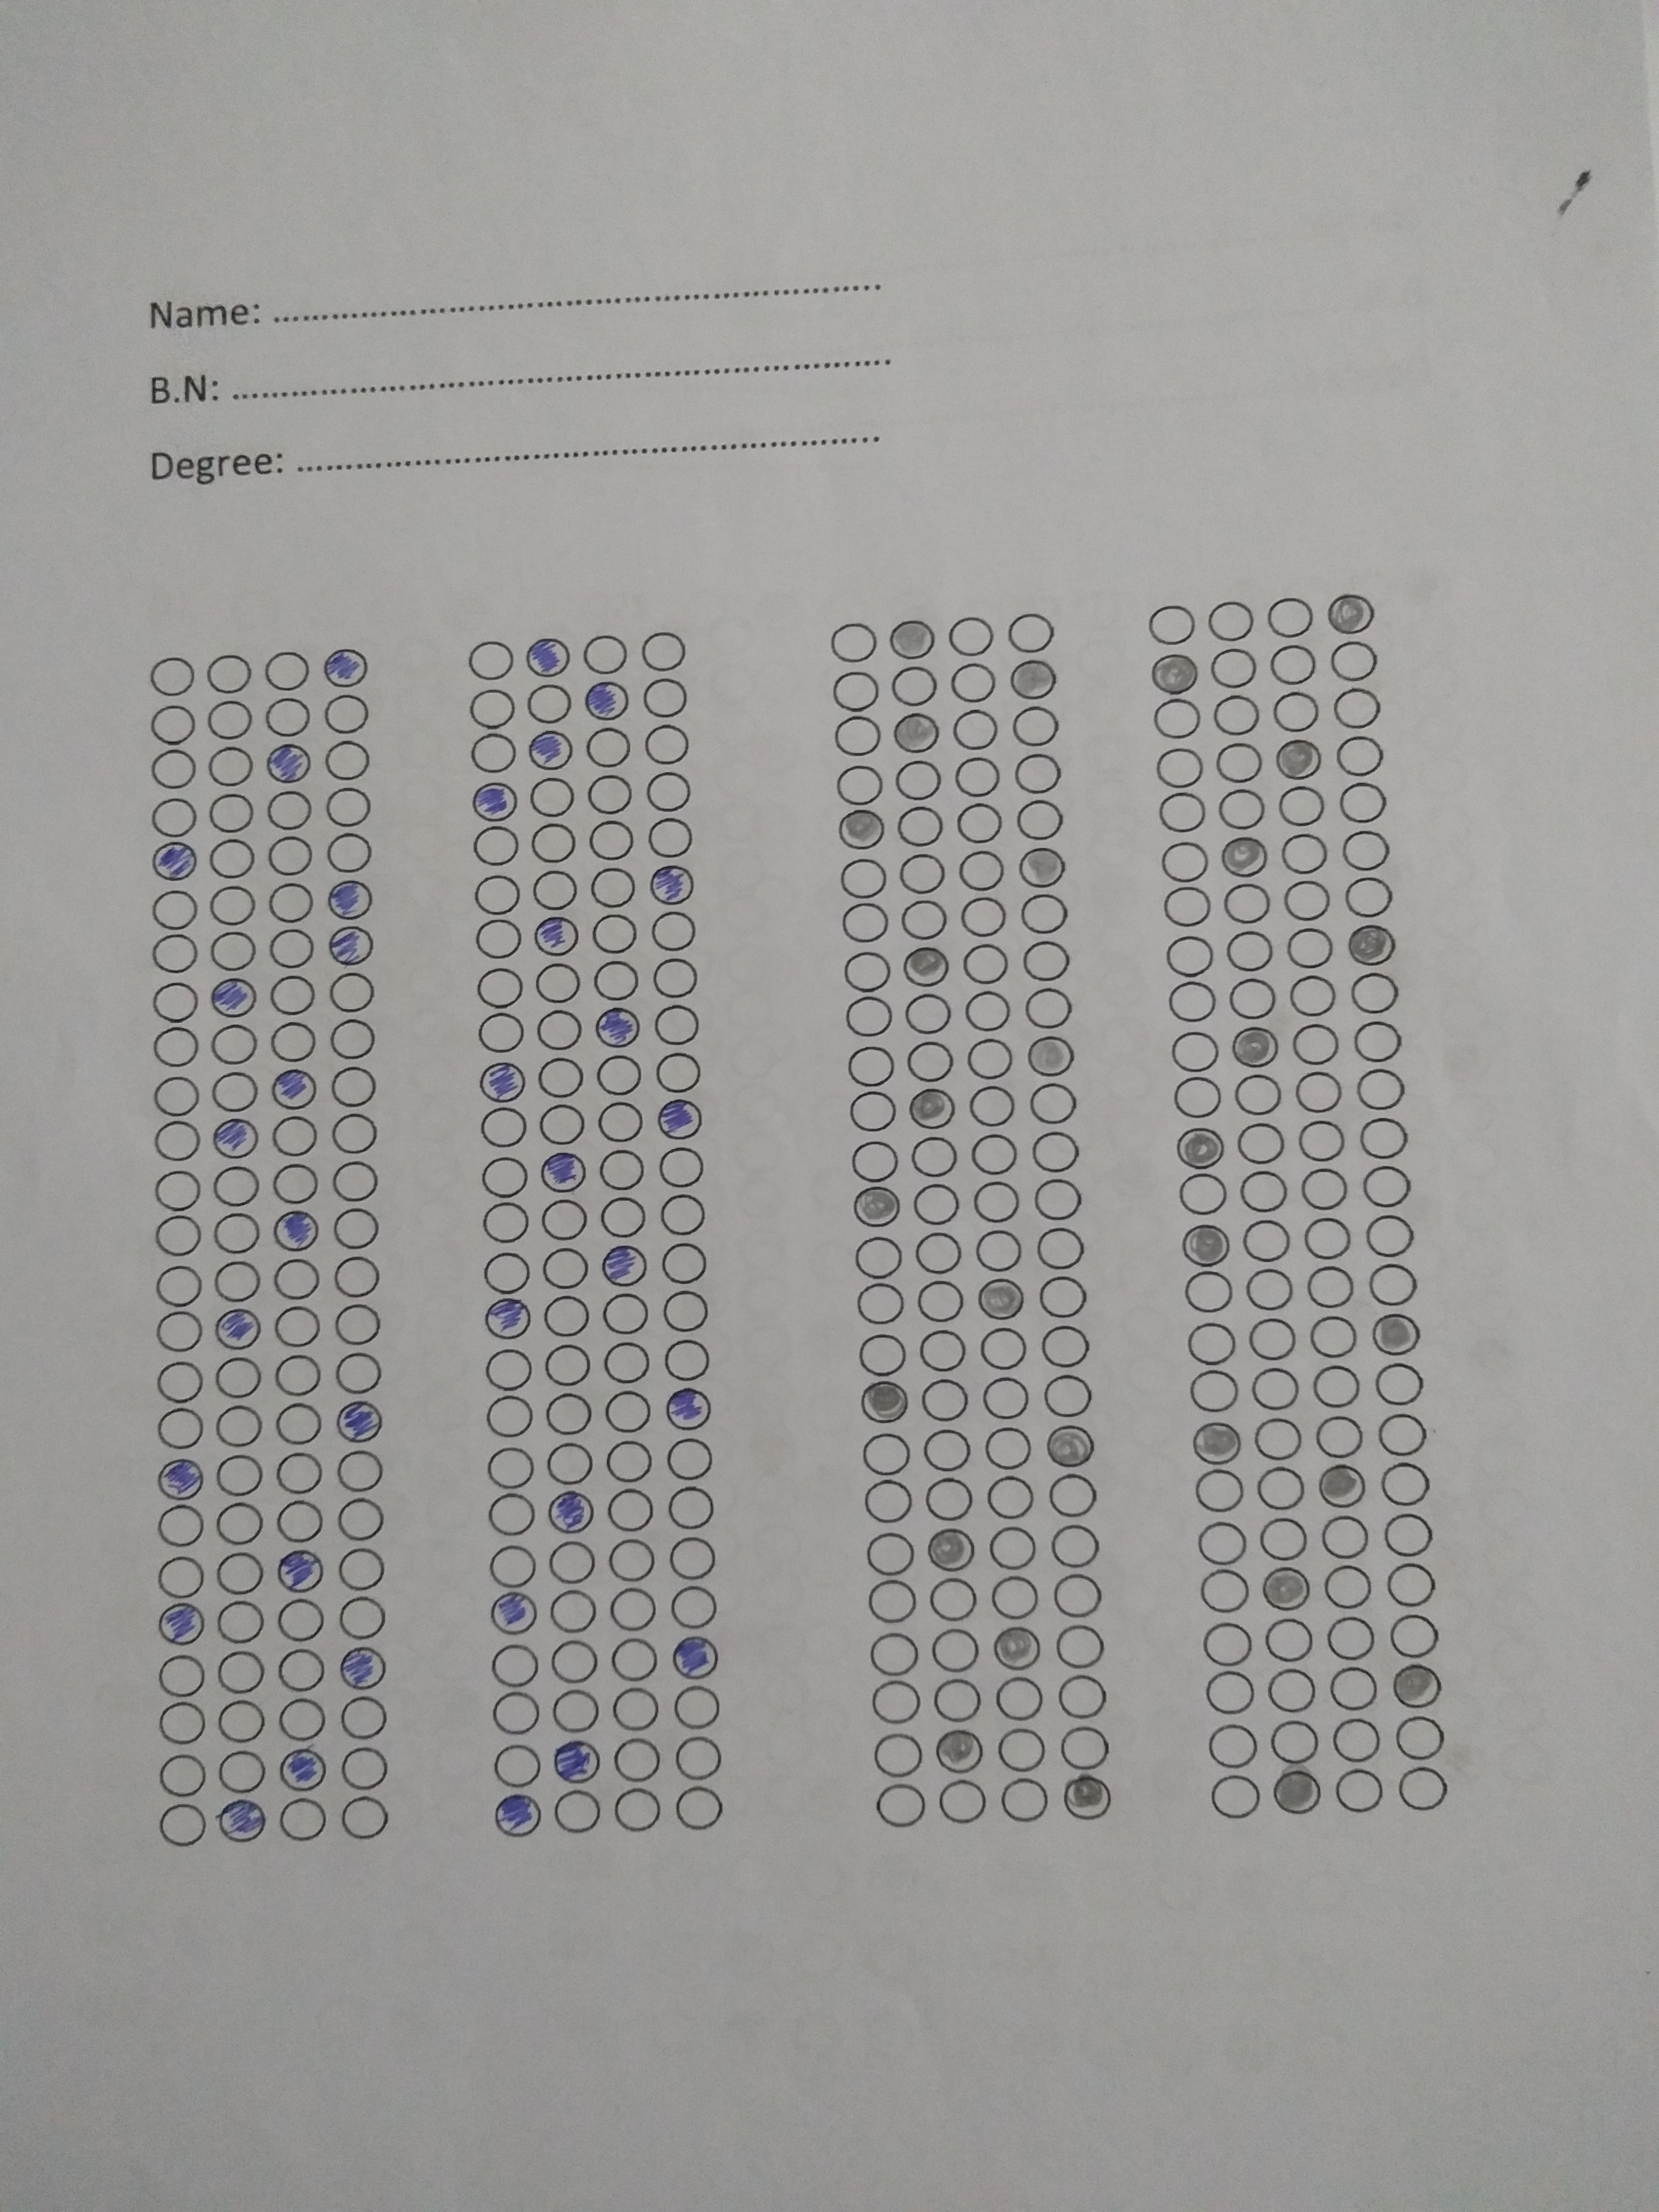not-c: (1333, 1768, 1389, 1815), (146, 657, 197, 698), (150, 890, 200, 932), (322, 831, 373, 873), (206, 838, 256, 880), (324, 787, 375, 829), (319, 691, 369, 733), (211, 1165, 261, 1207), (152, 1169, 202, 1211), (326, 1019, 376, 1061), (267, 1021, 317, 1062), (152, 1028, 202, 1069), (265, 974, 315, 1015), (150, 934, 200, 975), (265, 881, 315, 923), (272, 1402, 322, 1444), (155, 1407, 206, 1449), (211, 1357, 261, 1399), (272, 1305, 322, 1346), (329, 1256, 380, 1298), (155, 1264, 206, 1306), (211, 1212, 261, 1254), (152, 1216, 202, 1258), (328, 1160, 378, 1202), (484, 1446, 535, 1487), (544, 1345, 594, 1386), (486, 1395, 537, 1437), (664, 1486, 714, 1527), (545, 1590, 596, 1632), (674, 1737, 725, 1778), (552, 1791, 603, 1832), (610, 1738, 660, 1780), (551, 1689, 601, 1731), (544, 1442, 594, 1484), (544, 1294, 594, 1336), (491, 1691, 542, 1733), (493, 1745, 544, 1787), (157, 1803, 207, 1844), (338, 1747, 389, 1789), (216, 1749, 267, 1791), (277, 1700, 328, 1742), (216, 1700, 267, 1742), (336, 1696, 387, 1738), (338, 1595, 389, 1637), (213, 1601, 263, 1642), (333, 1547, 383, 1588), (584, 819, 634, 860), (528, 869, 579, 911), (657, 1291, 708, 1332), (599, 1292, 650, 1334), (474, 1010, 525, 1052), (535, 1055, 586, 1097), (596, 1148, 647, 1190), (655, 1150, 706, 1191), (659, 1242, 709, 1284), (1002, 613, 1053, 655), (826, 622, 877, 664), (526, 775, 577, 817), (584, 725, 634, 766), (469, 688, 519, 730), (525, 685, 575, 726), (638, 631, 688, 672), (580, 634, 631, 676), (974, 1230, 1025, 1271), (1033, 1228, 1084, 1270), (908, 1136, 958, 1177), (845, 1092, 896, 1134), (967, 1085, 1018, 1127), (904, 1042, 955, 1083), (901, 993, 951, 1035), (962, 991, 1012, 1033), (1021, 988, 1072, 1029), (958, 895, 1009, 937), (838, 902, 889, 944), (955, 850, 1006, 892), (838, 857, 889, 899), (896, 805, 946, 846), (894, 758, 945, 799), (1009, 705, 1060, 747), (950, 662, 1000, 704), (852, 1237, 903, 1278), (941, 1780, 992, 1822), (871, 1681, 922, 1723), (992, 1677, 1042, 1719), (1058, 1625, 1108, 1667), (927, 1578, 978, 1620), (990, 1576, 1040, 1618), (1051, 1575, 1101, 1616), (861, 1479, 911, 1521), (922, 1479, 972, 1521), (983, 1475, 1033, 1517), (983, 1428, 1033, 1470), (861, 1433, 911, 1475), (979, 1378, 1030, 1420), (854, 1334, 904, 1376), (852, 1282, 903, 1324), (1201, 1569, 1251, 1611), (1384, 1564, 1434, 1606), (1326, 1618, 1377, 1660), (1326, 1667, 1377, 1709), (1267, 1669, 1317, 1710), (1208, 1726, 1258, 1768), (1392, 1716, 1443, 1757), (1209, 1775, 1260, 1817), (1366, 1263, 1417, 1305), (1256, 1467, 1307, 1508), (1190, 1371, 1241, 1413), (1314, 1416, 1364, 1458), (1281, 881, 1331, 923), (1342, 878, 1392, 920), (1227, 930, 1277, 972), (1286, 927, 1337, 968), (1227, 977, 1277, 1019), (1288, 975, 1338, 1017), (1291, 1024, 1342, 1066), (1354, 1021, 1405, 1062), (1293, 1071, 1344, 1113), (1232, 1075, 1283, 1116), (1236, 1122, 1286, 1163), (1178, 1172, 1229, 1214), (1361, 1167, 1412, 1209), (1239, 1170, 1290, 1212), (1241, 1221, 1291, 1263), (1302, 1217, 1352, 1259), (1364, 1216, 1415, 1258), (1330, 688, 1380, 730), (1216, 789, 1267, 831), (1342, 831, 1392, 873), (1222, 883, 1272, 925), (1206, 648, 1256, 690), (1148, 700, 1199, 742), (265, 834, 314, 876), (263, 789, 312, 831), (150, 794, 199, 836), (206, 745, 254, 787), (329, 1113, 378, 1155), (270, 1116, 319, 1158), (211, 1071, 260, 1113), (267, 928, 315, 970), (335, 1449, 383, 1491), (274, 1453, 322, 1494), (214, 1406, 263, 1447), (603, 1345, 652, 1386), (544, 1393, 592, 1435), (673, 1686, 721, 1728), (610, 1688, 659, 1730), (549, 1540, 598, 1581), (488, 1545, 537, 1587), (277, 1797, 326, 1839), (160, 1754, 209, 1796), (275, 1648, 324, 1689), (216, 1552, 265, 1594), (155, 1555, 204, 1597), (474, 873, 523, 914), (647, 911, 695, 953), (594, 960, 643, 1001), (537, 1008, 586, 1050), (481, 1155, 530, 1197), (540, 1200, 589, 1242), (469, 733, 518, 775), (971, 1181, 1019, 1223), (852, 1141, 901, 1183), (1028, 1082, 1077, 1123), (847, 1045, 896, 1087), (965, 1036, 1014, 1078), (953, 758, 1002, 799), (836, 765, 885, 806), (833, 714, 882, 756), (932, 1679, 981, 1721), (931, 1629, 979, 1670), (866, 1580, 915, 1622), (866, 1533, 915, 1575), (922, 1430, 971, 1472), (915, 1282, 964, 1324), (1384, 1515, 1432, 1557), (1323, 1564, 1371, 1606), (1206, 1623, 1255, 1665), (1333, 1719, 1382, 1761), (1188, 1322, 1237, 1364), (1375, 1362, 1424, 1404), (1377, 1414, 1425, 1456), (1173, 1029, 1222, 1071), (1162, 840, 1211, 881), (1270, 643, 1319, 685), (1213, 695, 1262, 737), (204, 794, 254, 834), (319, 740, 369, 780), (261, 697, 312, 737), (204, 700, 254, 740), (148, 704, 199, 744), (202, 655, 253, 695), (270, 1163, 321, 1204), (211, 1024, 261, 1064), (324, 972, 375, 1012), (206, 885, 256, 925), (272, 1501, 322, 1541), (157, 1505, 207, 1545), (213, 1454, 263, 1494), (274, 1355, 324, 1395), (155, 1362, 206, 1402), (331, 1305, 382, 1345), (270, 1259, 321, 1299), (211, 1261, 261, 1301), (329, 1207, 380, 1247), (662, 1339, 713, 1379), (605, 1392, 655, 1432), (662, 1439, 713, 1479), (667, 1587, 718, 1627), (673, 1787, 723, 1827), (610, 1789, 660, 1829), (608, 1639, 659, 1679), (549, 1641, 599, 1681), (666, 1538, 716, 1578), (603, 1540, 653, 1580), (606, 1489, 657, 1529), (484, 1494, 535, 1534), (340, 1797, 390, 1838), (155, 1702, 206, 1742), (153, 1656, 204, 1696), (335, 1500, 385, 1540), (530, 822, 580, 862), (471, 826, 521, 866), (587, 914, 638, 954), (483, 1252, 533, 1292), (474, 967, 525, 1007), (650, 1005, 701, 1045), (596, 1055, 647, 1096), (598, 1101, 648, 1141), (476, 1108, 526, 1148), (657, 1195, 708, 1235), (945, 617, 995, 657), (641, 772, 692, 812), (640, 725, 690, 765), (638, 678, 688, 718), (911, 1233, 962, 1273), (910, 1183, 960, 1223), (1032, 1179, 1082, 1219), (969, 1134, 1019, 1174), (842, 996, 892, 1036), (840, 951, 890, 991), (958, 944, 1009, 984), (1018, 895, 1068, 935), (899, 900, 950, 941), (896, 855, 946, 895), (951, 803, 1002, 843), (1012, 754, 1063, 794), (948, 711, 999, 751), (999, 1778, 1049, 1818), (871, 1735, 922, 1775), (1060, 1726, 1110, 1766), (1056, 1676, 1107, 1716), (986, 1527, 1037, 1568), (1046, 1475, 1096, 1515), (978, 1329, 1028, 1369), (915, 1331, 965, 1371), (1037, 1277, 1087, 1317), (1319, 1517, 1370, 1557), (1258, 1519, 1309, 1559), (1197, 1522, 1248, 1562), (1389, 1616, 1439, 1656), (1263, 1620, 1314, 1660), (1396, 1768, 1446, 1808), (877, 1785, 927, 1825), (1244, 1268, 1295, 1308), (1307, 1266, 1358, 1306), (1380, 1463, 1431, 1503), (1307, 1317, 1358, 1357), (1248, 1318, 1298, 1359), (1249, 1369, 1300, 1409), (1312, 1367, 1363, 1407), (1253, 1418, 1303, 1458), (1164, 937, 1215, 977), (1183, 1273, 1234, 1313), (1354, 1068, 1405, 1108), (1295, 1120, 1345, 1160), (1300, 1169, 1351, 1209), (1335, 737, 1385, 777), (1213, 742, 1263, 782), (1154, 747, 1204, 787), (1279, 834, 1330, 874), (1157, 791, 1208, 831), (1147, 606, 1197, 646), (1263, 599, 1314, 639), (1330, 641, 1380, 681), (148, 749, 197, 789), (261, 650, 310, 690), (153, 1120, 202, 1160), (328, 1066, 376, 1106), (153, 1076, 202, 1116), (150, 982, 199, 1022), (209, 932, 258, 972), (216, 1503, 265, 1543), (331, 1353, 380, 1393), (153, 1312, 202, 1352), (486, 1350, 535, 1390), (606, 1588, 655, 1629), (603, 1440, 652, 1480), (491, 1646, 540, 1686), (218, 1651, 267, 1691), (277, 1601, 326, 1641), (643, 819, 692, 859), (587, 867, 636, 907), (474, 920, 523, 960), (650, 958, 699, 998), (533, 963, 582, 1003), (540, 1247, 589, 1287), (653, 1052, 702, 1092), (537, 1104, 586, 1144), (599, 1198, 648, 1238), (483, 1202, 532, 1242), (831, 671, 880, 711), (584, 775, 633, 815), (465, 641, 514, 681), (1030, 1134, 1079, 1174), (1021, 941, 1070, 981), (1014, 799, 1063, 840), (890, 667, 939, 707), (997, 1730, 1046, 1770), (870, 1634, 918, 1674), (1051, 1526, 1100, 1566), (920, 1379, 969, 1420), (1042, 1376, 1091, 1416), (1040, 1327, 1089, 1367), (1208, 1672, 1256, 1712), (1270, 1723, 1319, 1763), (1194, 1470, 1243, 1510), (1168, 982, 1216, 1022), (1349, 974, 1398, 1014), (1173, 1078, 1222, 1118), (1359, 1118, 1408, 1158), (1277, 786, 1326, 826), (1338, 784, 1387, 824), (1162, 887, 1211, 927), (1206, 603, 1255, 643), (1270, 691, 1319, 732)
taken-c: (1270, 1766, 1324, 1817), (1058, 1773, 1114, 1822), (1190, 1420, 1246, 1467), (1046, 1421, 1098, 1470), (1392, 1662, 1445, 1710), (1370, 1312, 1424, 1359), (1262, 1562, 1312, 1611), (857, 1379, 910, 1426), (493, 1792, 545, 1839), (1317, 1463, 1370, 1510), (275, 1747, 329, 1792), (992, 1623, 1040, 1672), (488, 1590, 538, 1637), (545, 1489, 596, 1536), (481, 1296, 533, 1341), (216, 1797, 268, 1843), (1272, 735, 1324, 780), (1175, 1125, 1227, 1170), (335, 1397, 383, 1444), (908, 1083, 955, 1132), (552, 1740, 601, 1787), (340, 1644, 387, 1693), (272, 1209, 322, 1254), (1009, 658, 1060, 704), (890, 711, 941, 756), (901, 944, 951, 989), (976, 1277, 1026, 1322), (669, 1634, 720, 1679), (275, 1548, 326, 1594), (1220, 834, 1272, 878), (1180, 1223, 1232, 1266), (265, 740, 314, 786), (326, 878, 375, 923), (328, 923, 376, 968), (268, 1066, 317, 1111), (664, 1386, 713, 1432), (647, 864, 695, 909), (838, 806, 887, 852), (852, 1184, 901, 1230), (159, 1601, 207, 1646), (934, 1730, 983, 1775), (599, 1244, 650, 1287), (537, 1150, 587, 1193), (477, 1061, 528, 1104), (525, 728, 575, 772), (155, 1458, 206, 1501), (1326, 592, 1377, 636), (1345, 923, 1396, 967), (209, 1116, 261, 1158), (1025, 1036, 1077, 1078), (216, 1306, 263, 1352), (150, 840, 199, 883), (209, 977, 258, 1021), (655, 1096, 704, 1139), (471, 780, 519, 824), (887, 617, 936, 660), (927, 1527, 976, 1571), (1150, 651, 1199, 695), (1232, 1026, 1281, 1069), (1016, 846, 1066, 888), (584, 679, 631, 723), (322, 648, 369, 690), (594, 1007, 641, 1049), (523, 636, 570, 678), (533, 916, 579, 958)
